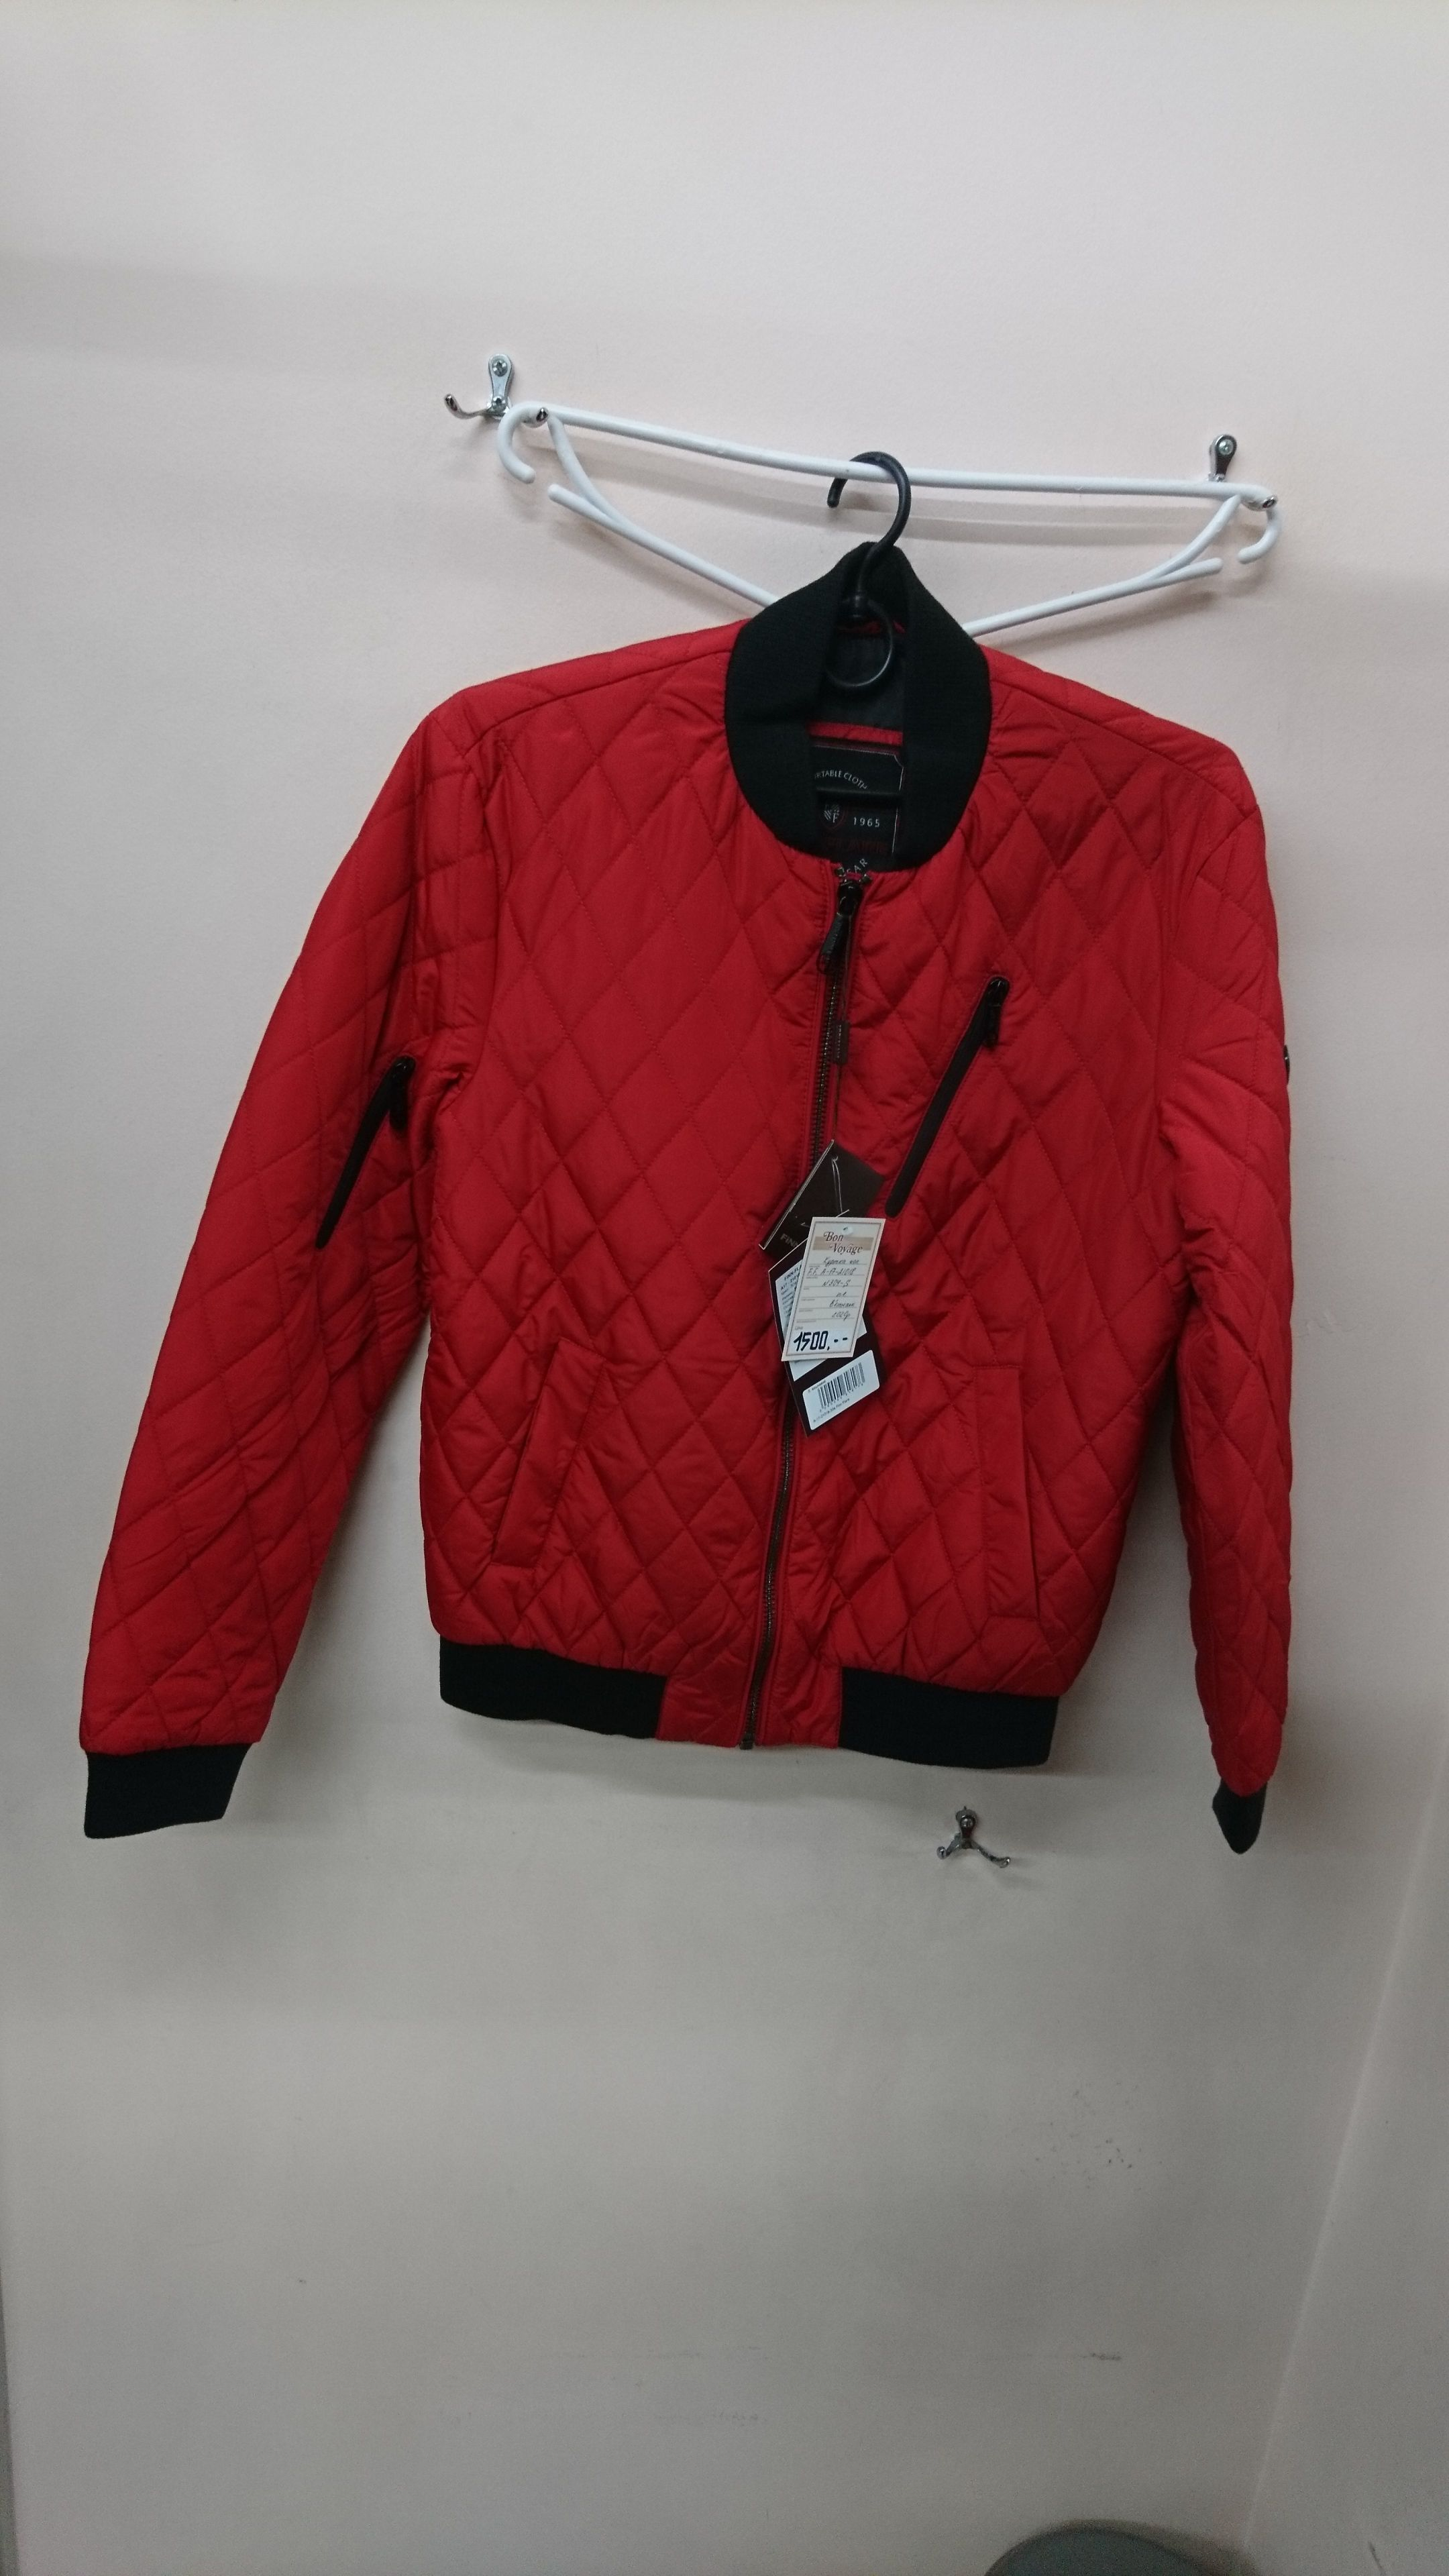clothes: (99, 536, 1292, 1854)
